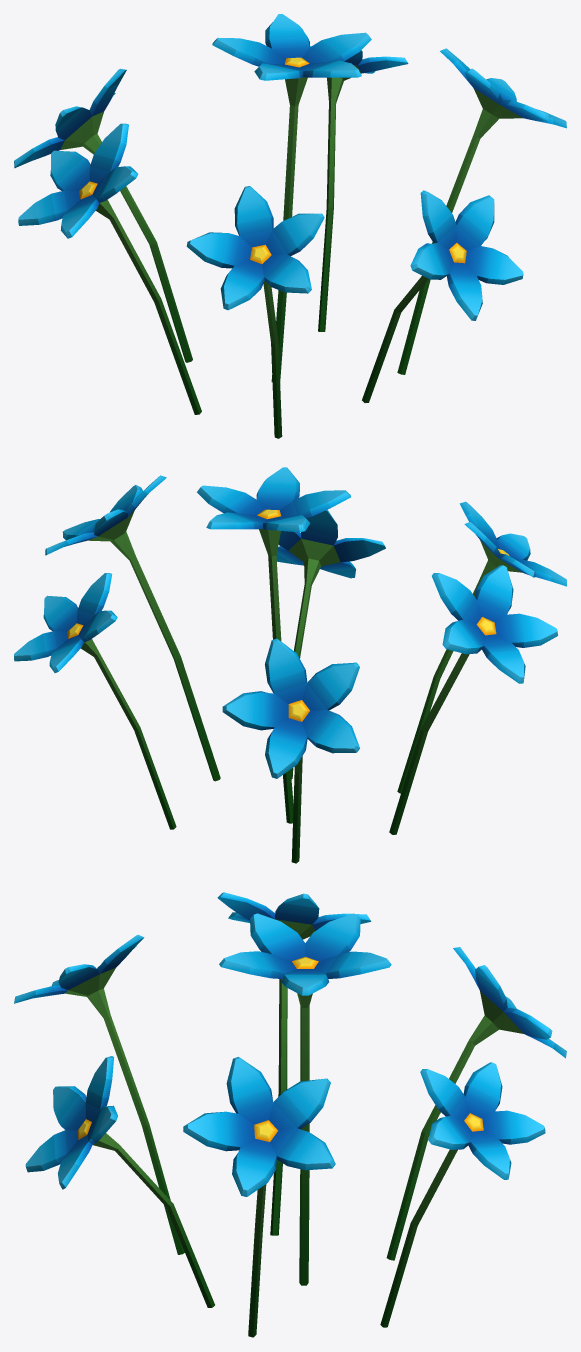
Rendered from Flower_Blue_Group.fbx.
3 views of the same model, one above another, from view 1: azimuth 30°, elevation 25°; view 2: azimuth 150°, elevation 25°; view 3: azimuth 270°, elevation 25° (orthographic). The views are drawn at different scales.
Visible parts, largest first — view 1: Flower_Blue_Group; view 2: Flower_Blue_Group; view 3: Flower_Blue_Group.
Part boxes in pixels (bbox=[...]): Flower_Blue_Group: bbox=[14, 14, 566, 438]; Flower_Blue_Group: bbox=[14, 467, 566, 863]; Flower_Blue_Group: bbox=[14, 892, 566, 1337].
Bounding box in the file's own units: 78.05 × 48.66 × 69.19.
